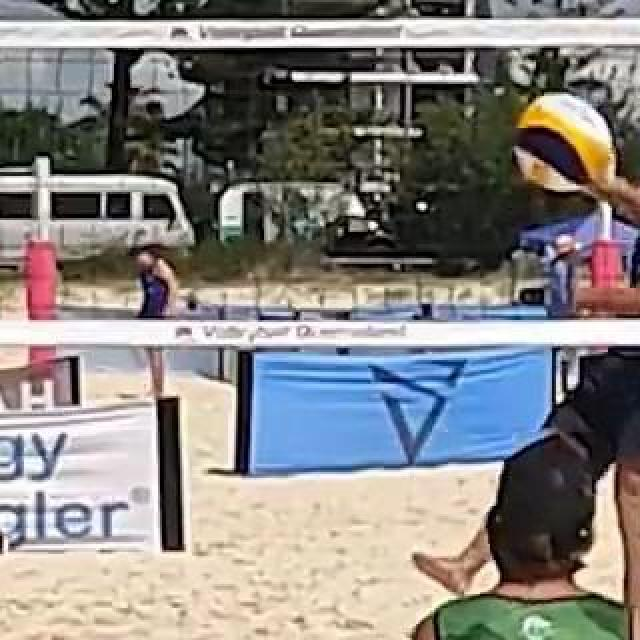volleyball: (514, 91, 614, 193)
